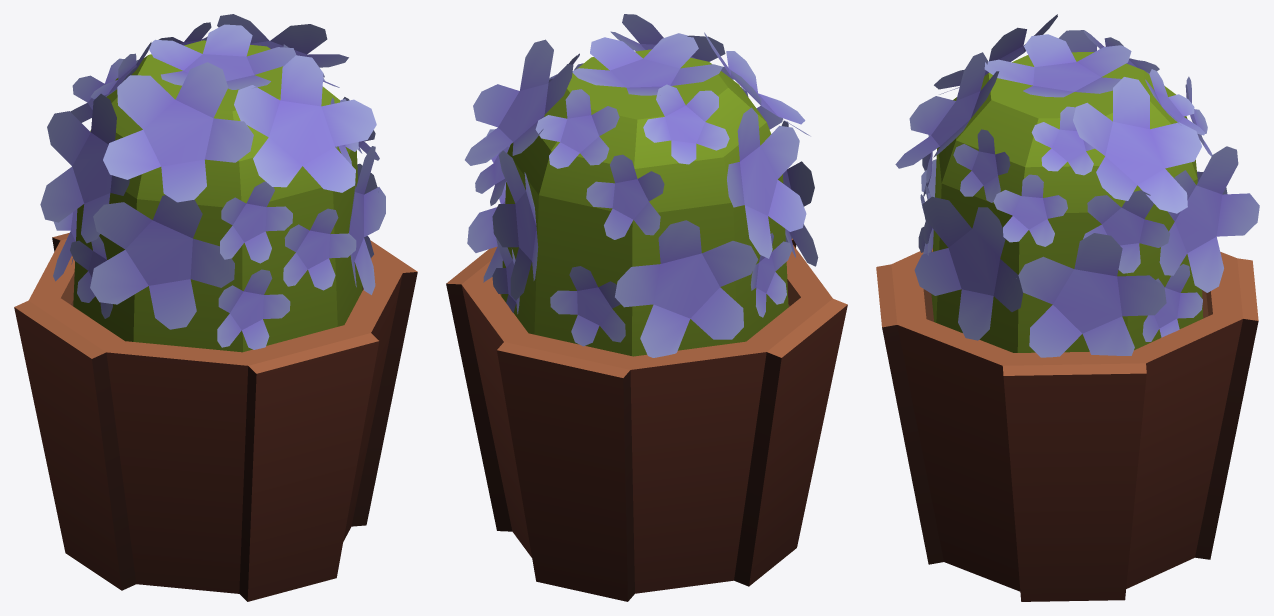
The model's file is farmpack2023flowerpotpurpleflowers.fbx.
3 views of the same model, side by side, from view 1: azimuth 30°, elevation 25°; view 2: azimuth 150°, elevation 25°; view 3: azimuth 270°, elevation 25° (orthographic).
Visible parts, largest first — view 1: Cylinder.397; view 2: Cylinder.397; view 3: Cylinder.397.
Boxes of the visible parts, <box> form: Cylinder.397: <box>14,14,417,601</box>; Cylinder.397: <box>446,14,847,601</box>; Cylinder.397: <box>876,14,1259,601</box>.
Bounding box in the file's own units: 1.05 × 1.05 × 1.49.
